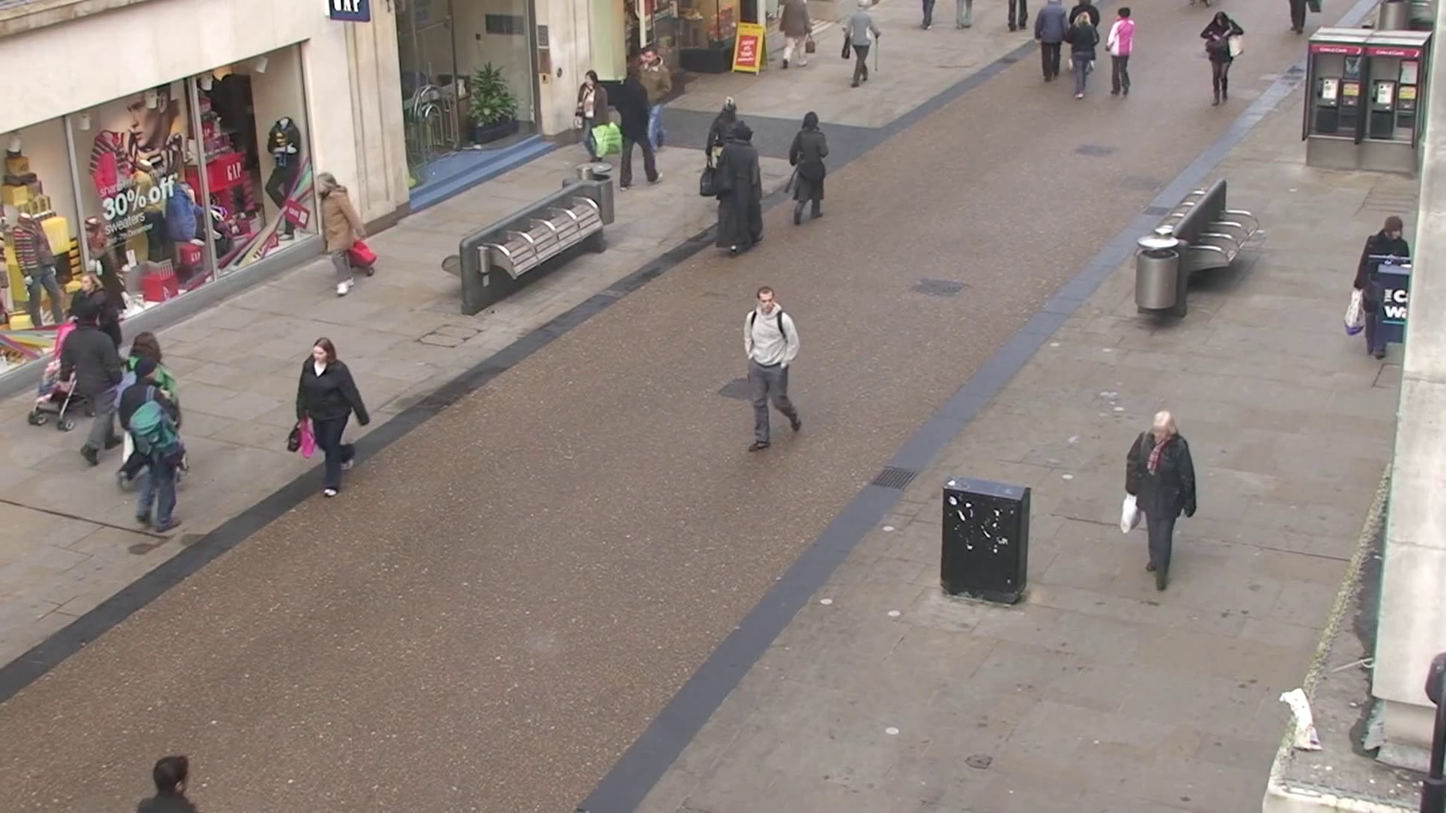person: (285, 148, 394, 315), (1123, 407, 1199, 591), (31, 303, 123, 453), (294, 337, 371, 497), (1359, 202, 1432, 364), (743, 285, 803, 451), (701, 97, 763, 257), (128, 372, 186, 532), (569, 71, 623, 210), (618, 66, 663, 185), (786, 109, 830, 226), (1200, 10, 1241, 105), (136, 755, 198, 812), (1065, 4, 1100, 99), (842, 4, 880, 87), (1106, 6, 1136, 99), (1033, 0, 1066, 84)
